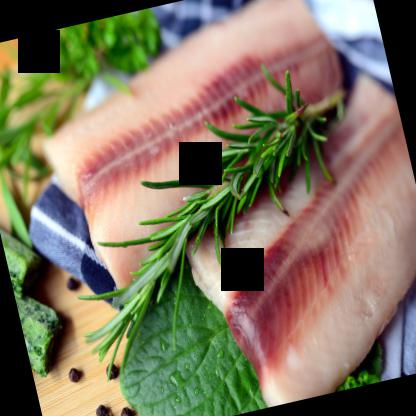salmon: (17, 0, 375, 307), (153, 68, 415, 415)
